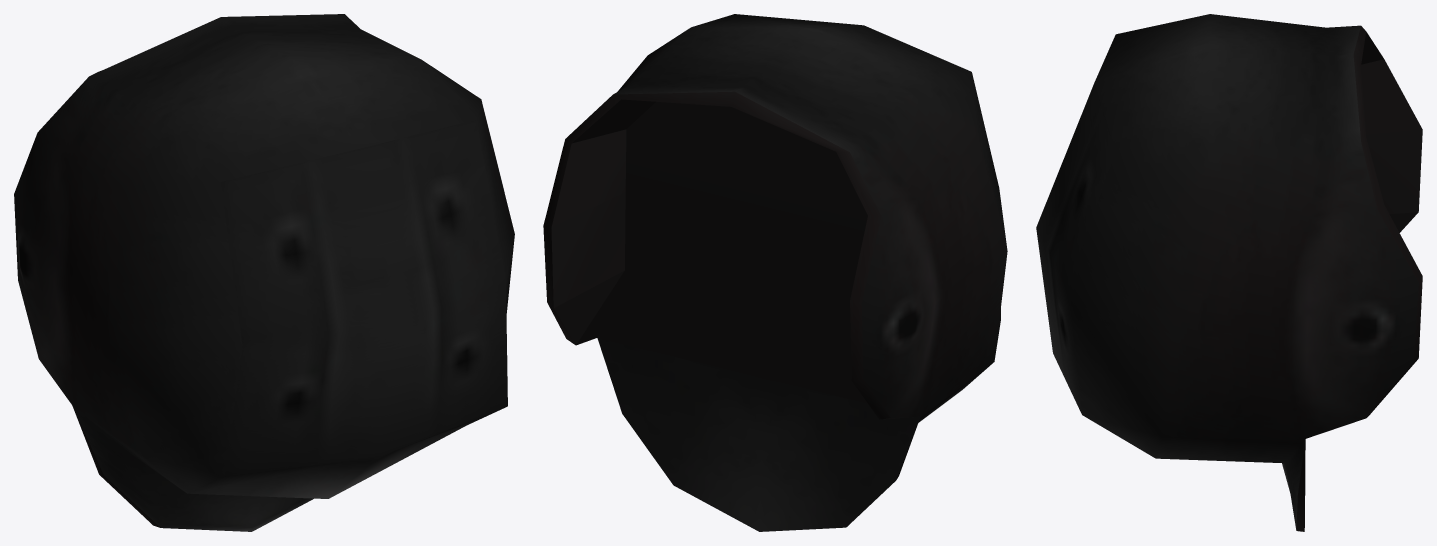
File: Avatar_Mike_H_01_4a7a2fb0__Avatar_Mike_L_C_01_b6048fb3_c1f257.obj
3 renders of one model, left to right at view 1: azimuth 30°, elevation 25°; view 2: azimuth 150°, elevation 25°; view 3: azimuth 270°, elevation 25°, orthographic. The views are drawn at different scales.
Bounding box in the file's own units: 0.8233 × 1.01 × 0.7483.
Materials: 1 (1 with a texture image).
